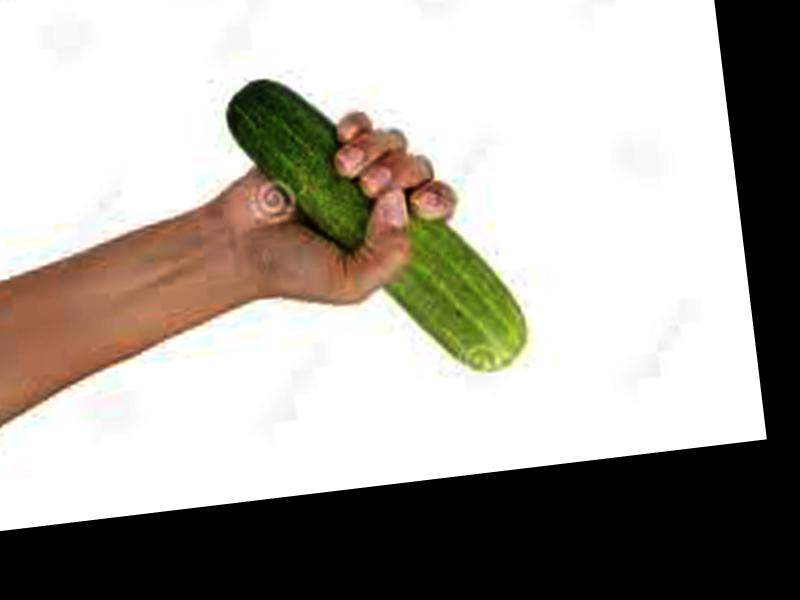Cucumber: (216, 52, 529, 396)
